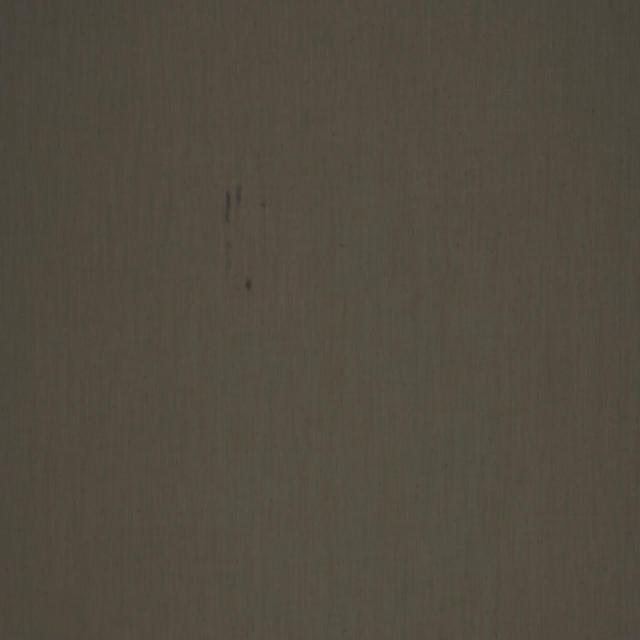dirty: (224, 189, 232, 223), (244, 276, 254, 292), (235, 185, 242, 205), (225, 238, 232, 252), (260, 200, 266, 211)
